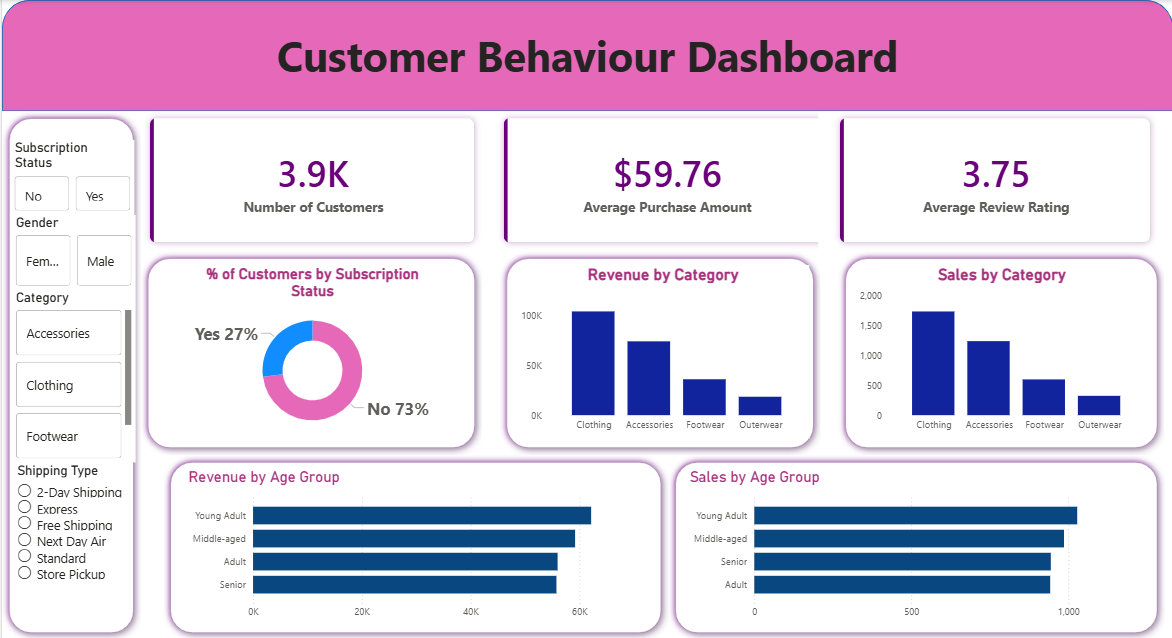

What the dashboard file says about the page in this screenshot:
{"tool":"powerbi","page":{"name":"Page 1","canvas":[1500,820],"ordinal":0},"visuals":[{"type":"cardVisual","fields":{"Data":["customer.Number of Customers"]},"box":[161.7,123.3,472.4,216.2],"z":0},{"type":"cardVisual","fields":{"Data":["customer.Average Purchase Amount"]},"box":[614.9,123.3,474,216.2],"z":1000},{"type":"cardVisual","fields":{"Data":["customer.Average Review Rating"]},"box":[1045.6,123.3,454.7,216.2],"z":2000},{"type":"shape","box":[0,0,1500.3,142.5],"z":3000},{"type":"textbox","box":[0,30.4,1500.3,112.1],"z":4000},{"type":"shape","box":[177.7,321.8,437.1,261],"z":5000},{"type":"donutChart","title":"% of Customers by Subscription Status","fields":{"Y":["CountNonNull(customer.customer_id)"],"Category":["customer.subscription_status"]},"box":[206.6,339.5,382.7,222.6],"z":6000},{"type":"shape","box":[637.3,321.8,411.5,261],"z":7000},{"type":"shape","box":[1071.2,321.8,417.9,261],"z":8000},{"type":"clusteredColumnChart","title":"Revenue by Category","fields":{"Category":["customer.category"],"Y":["Sum(customer.purchase_amount)"]},"box":[659.7,339.5,374.7,222.6],"z":9000},{"type":"clusteredColumnChart","title":"Sales by Category","fields":{"Category":["customer.category"],"Y":["CountNonNull(customer.customer_id)"]},"box":[1093.6,339.5,374.7,222.6],"z":10000},{"type":"shape","box":[0,142.5,177.7,677.3],"z":11000},{"type":"advancedSlicerVisual","fields":{"Values":["customer.subscription_status"]},"box":[11.2,179.3,158.5,96.1],"z":12000},{"type":"advancedSlicerVisual","fields":{"Values":["customer.gender"]},"box":[12.8,275.4,158.5,96.1],"z":13000},{"type":"advancedSlicerVisual","fields":{"Values":["customer.category"]},"box":[12.8,371.5,158.5,221],"z":14000},{"type":"listSlicer","fields":{"Values":["customer.shipping_type"]},"box":[14.4,592.4,150.5,201.8],"z":15000},{"type":"shape","box":[206.6,582.8,646.9,237],"z":15500},{"type":"clusteredBarChart","title":"Revenue by Age Group","fields":{"Y":["Sum(customer.purchase_amount)"],"Category":["customer.age_group"]},"box":[233.8,600.5,590.8,201.8],"z":16000},{"type":"shape","box":[853.4,582.8,635.7,237],"z":18000},{"type":"clusteredBarChart","title":"Sales by Age Group","fields":{"Y":["CountNonNull(customer.customer_id)"],"Category":["customer.age_group"]},"box":[875.9,600.5,590.8,201.8],"z":19000}]}

Visuals, with their boxes in screenshot pixels (x1, y1, x2, y2), scaled from the page's 1500x820 canvas onto the 1172x638 screenshot:
cardVisual - customer.Number of Customers: l=126, t=96, r=495, b=264
cardVisual - customer.Average Purchase Amount: l=480, t=96, r=851, b=264
cardVisual - customer.Average Review Rating: l=817, t=96, r=1171, b=264
shape: l=0, t=0, r=1171, b=111
textbox: l=0, t=24, r=1171, b=111
shape: l=139, t=250, r=480, b=453
"% of Customers by Subscription Status" donutChart: l=161, t=264, r=460, b=437
shape: l=498, t=250, r=819, b=453
shape: l=837, t=250, r=1163, b=453
"Revenue by Category" clusteredColumnChart: l=515, t=264, r=808, b=437
"Sales by Category" clusteredColumnChart: l=854, t=264, r=1147, b=437
shape: l=0, t=111, r=139, b=637
advancedSlicerVisual - customer.subscription_status: l=9, t=140, r=133, b=214
advancedSlicerVisual - customer.gender: l=10, t=214, r=134, b=289
advancedSlicerVisual - customer.category: l=10, t=289, r=134, b=461
listSlicer - customer.shipping_type: l=11, t=461, r=129, b=618
shape: l=161, t=453, r=667, b=637
"Revenue by Age Group" clusteredBarChart: l=183, t=467, r=644, b=624
shape: l=667, t=453, r=1163, b=637
"Sales by Age Group" clusteredBarChart: l=684, t=467, r=1146, b=624
